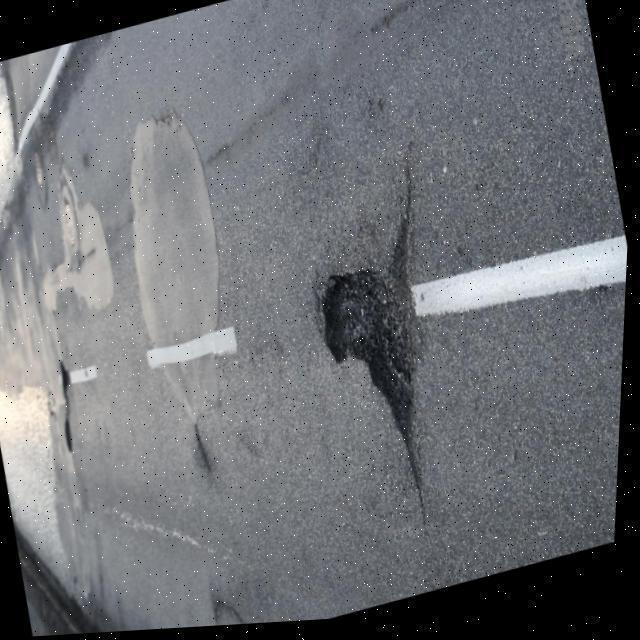Pothole: (318, 205, 421, 469), (58, 359, 74, 456)
